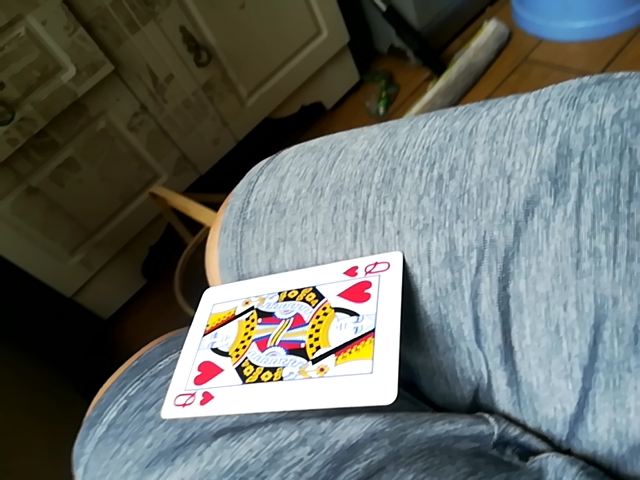hx q: (164, 252, 411, 423)
